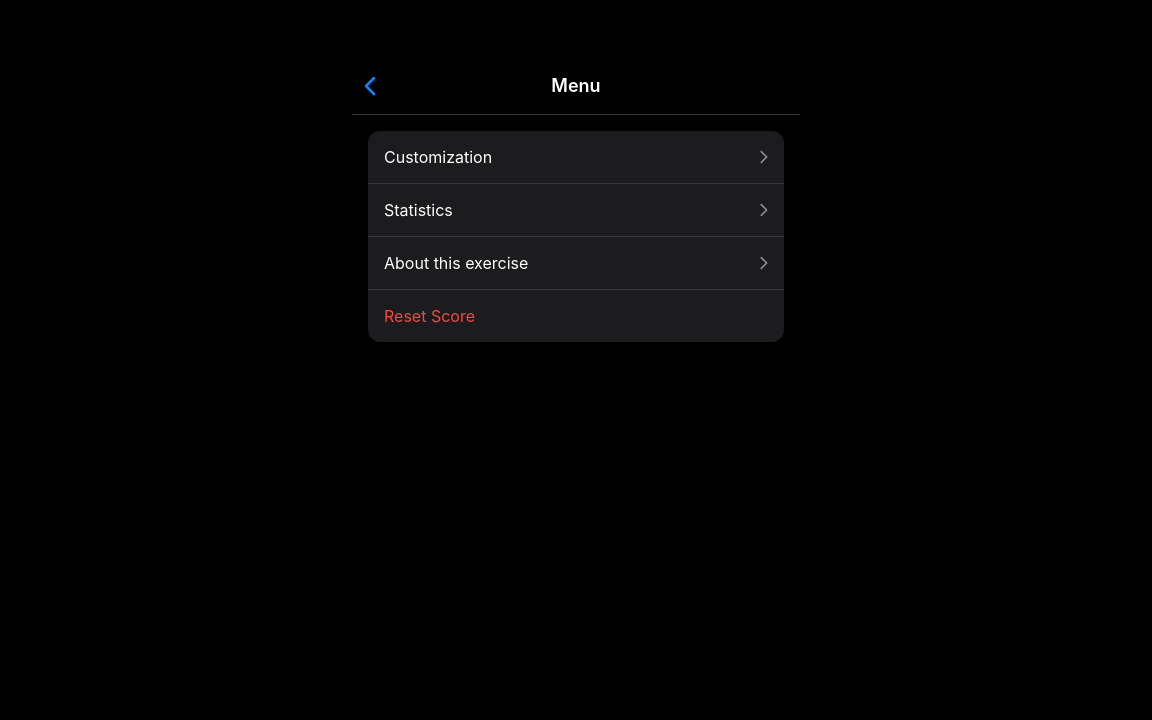
Test: the root exercise gets the same four settings › offers chords, inversions, range and play mode
Step 1. Click the button "Customization" → (438, 157), box [368,131,784,183]
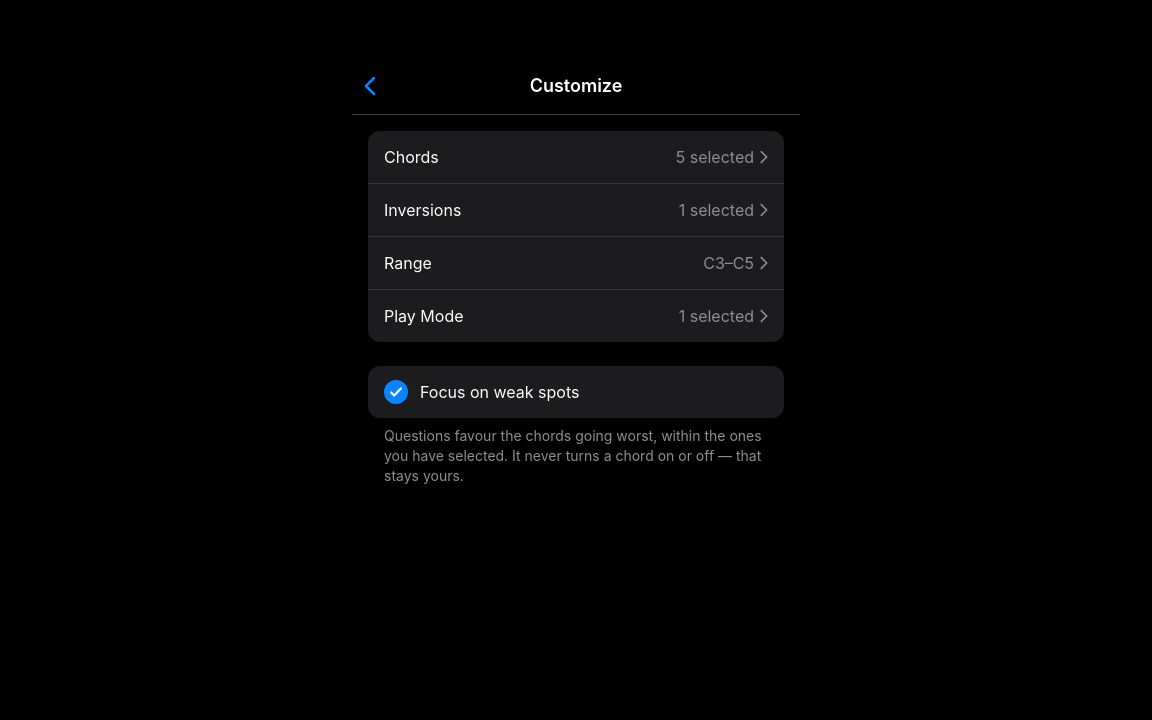
Now the button "Chords 5 selected" is shown, box [368,131,784,183]
Now the button "Inversions 1 selected" is shown, box [368,183,784,236]
Now the button "Range C3–C5" is shown, box [368,236,784,289]
